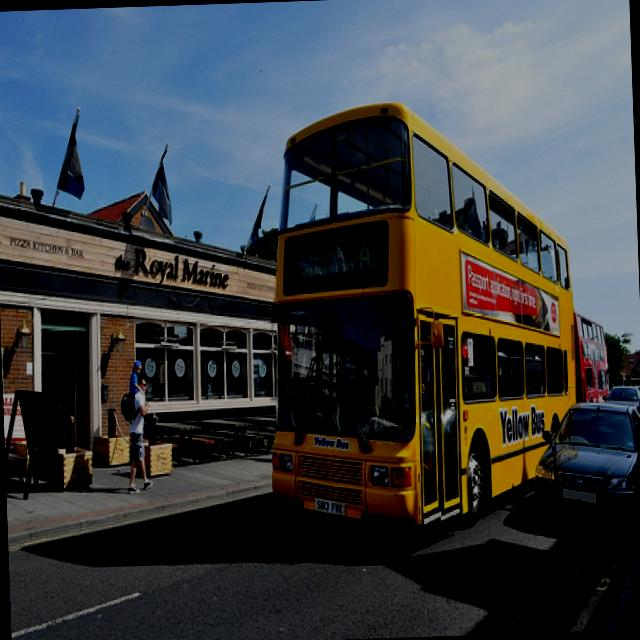Vehicle: (259, 98, 579, 536), (528, 394, 640, 538), (574, 310, 611, 402), (602, 385, 640, 416), (634, 385, 640, 412)
